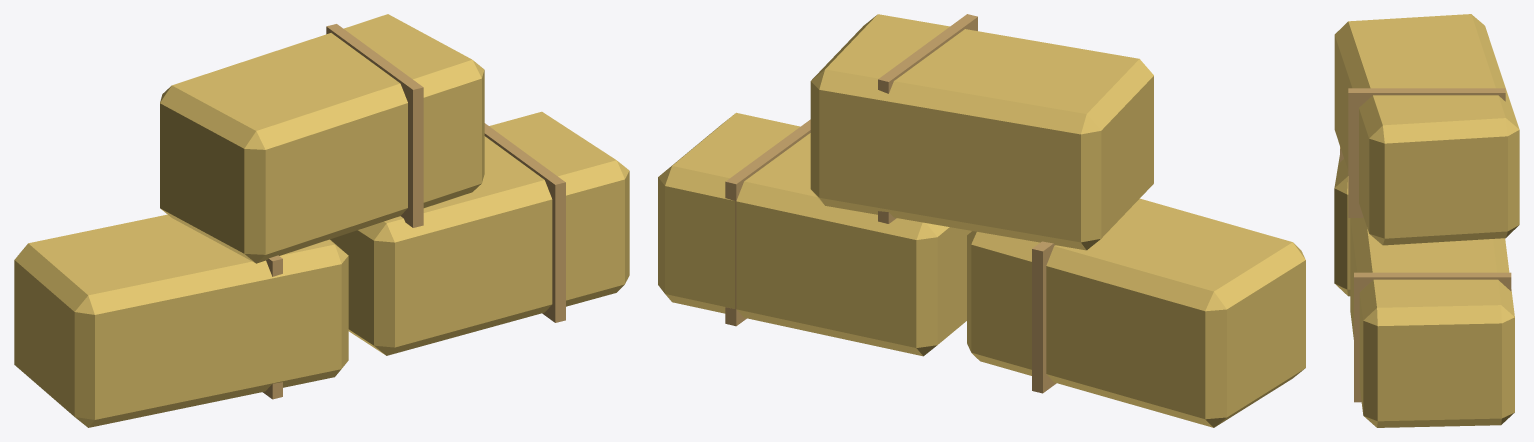
Rendered from PR_HayBales.fbx.
The picture shows the model from 3 angles, left to right: view 1: azimuth 30°, elevation 25°; view 2: azimuth 150°, elevation 25°; view 3: azimuth 270°, elevation 25°; orthographic projection. The views are drawn at different scales.
Visible parts, largest first — view 1: PR_HayBales; view 2: PR_HayBales; view 3: PR_HayBales.
Boxes of the visible parts, x1,y1,x2,y2 form: PR_HayBales: (14,14,629,427); PR_HayBales: (658,14,1305,427); PR_HayBales: (1334,14,1519,427).
Size of the model in its own units: 2.13 by 0.6707 by 0.98.
